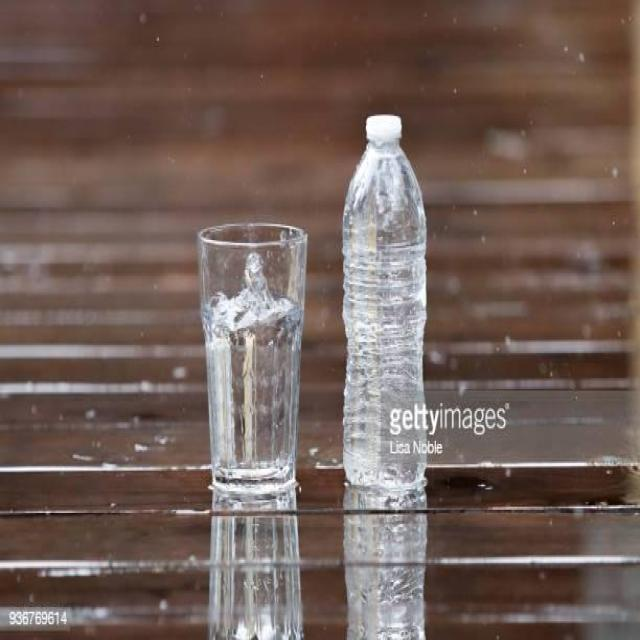bottle: (339, 99, 431, 503)
